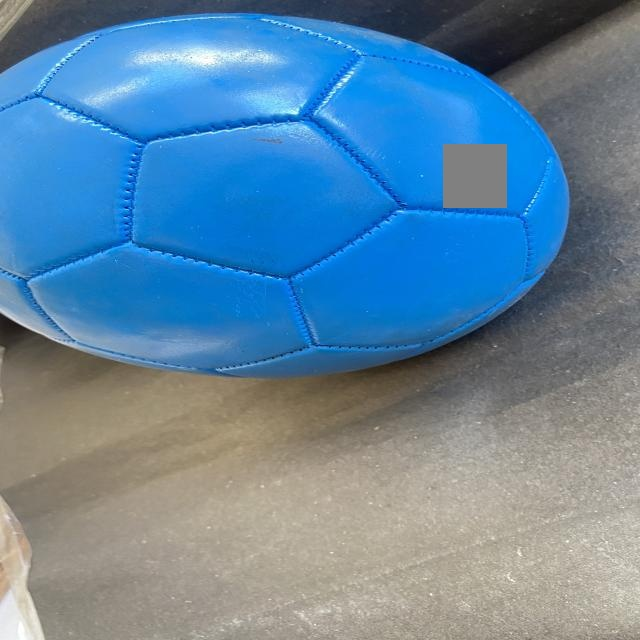blue_ball: (1, 7, 598, 399)
